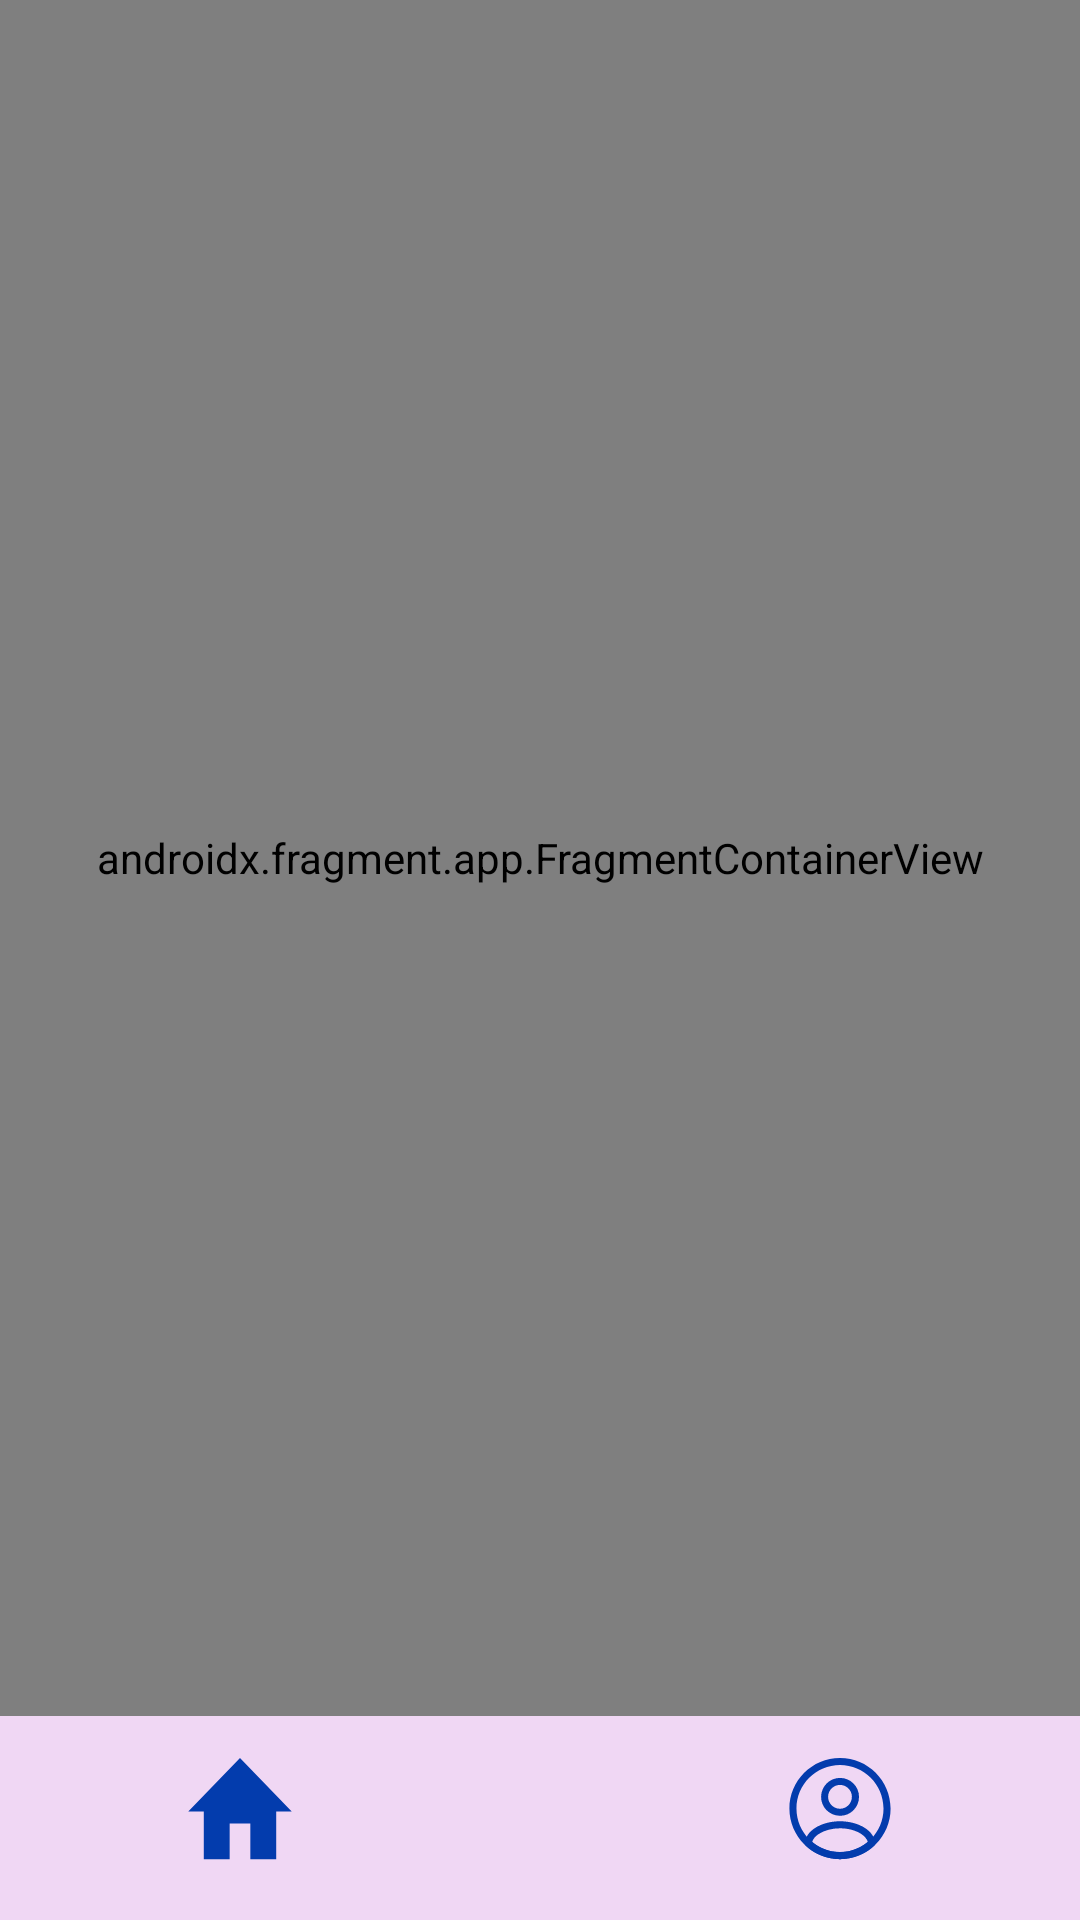

Where icons sit on this 1080w x 1920h app screen, as (x1, y1, x2, y2):
home: (188, 1758, 292, 1860)
profile: (789, 1758, 891, 1860)
